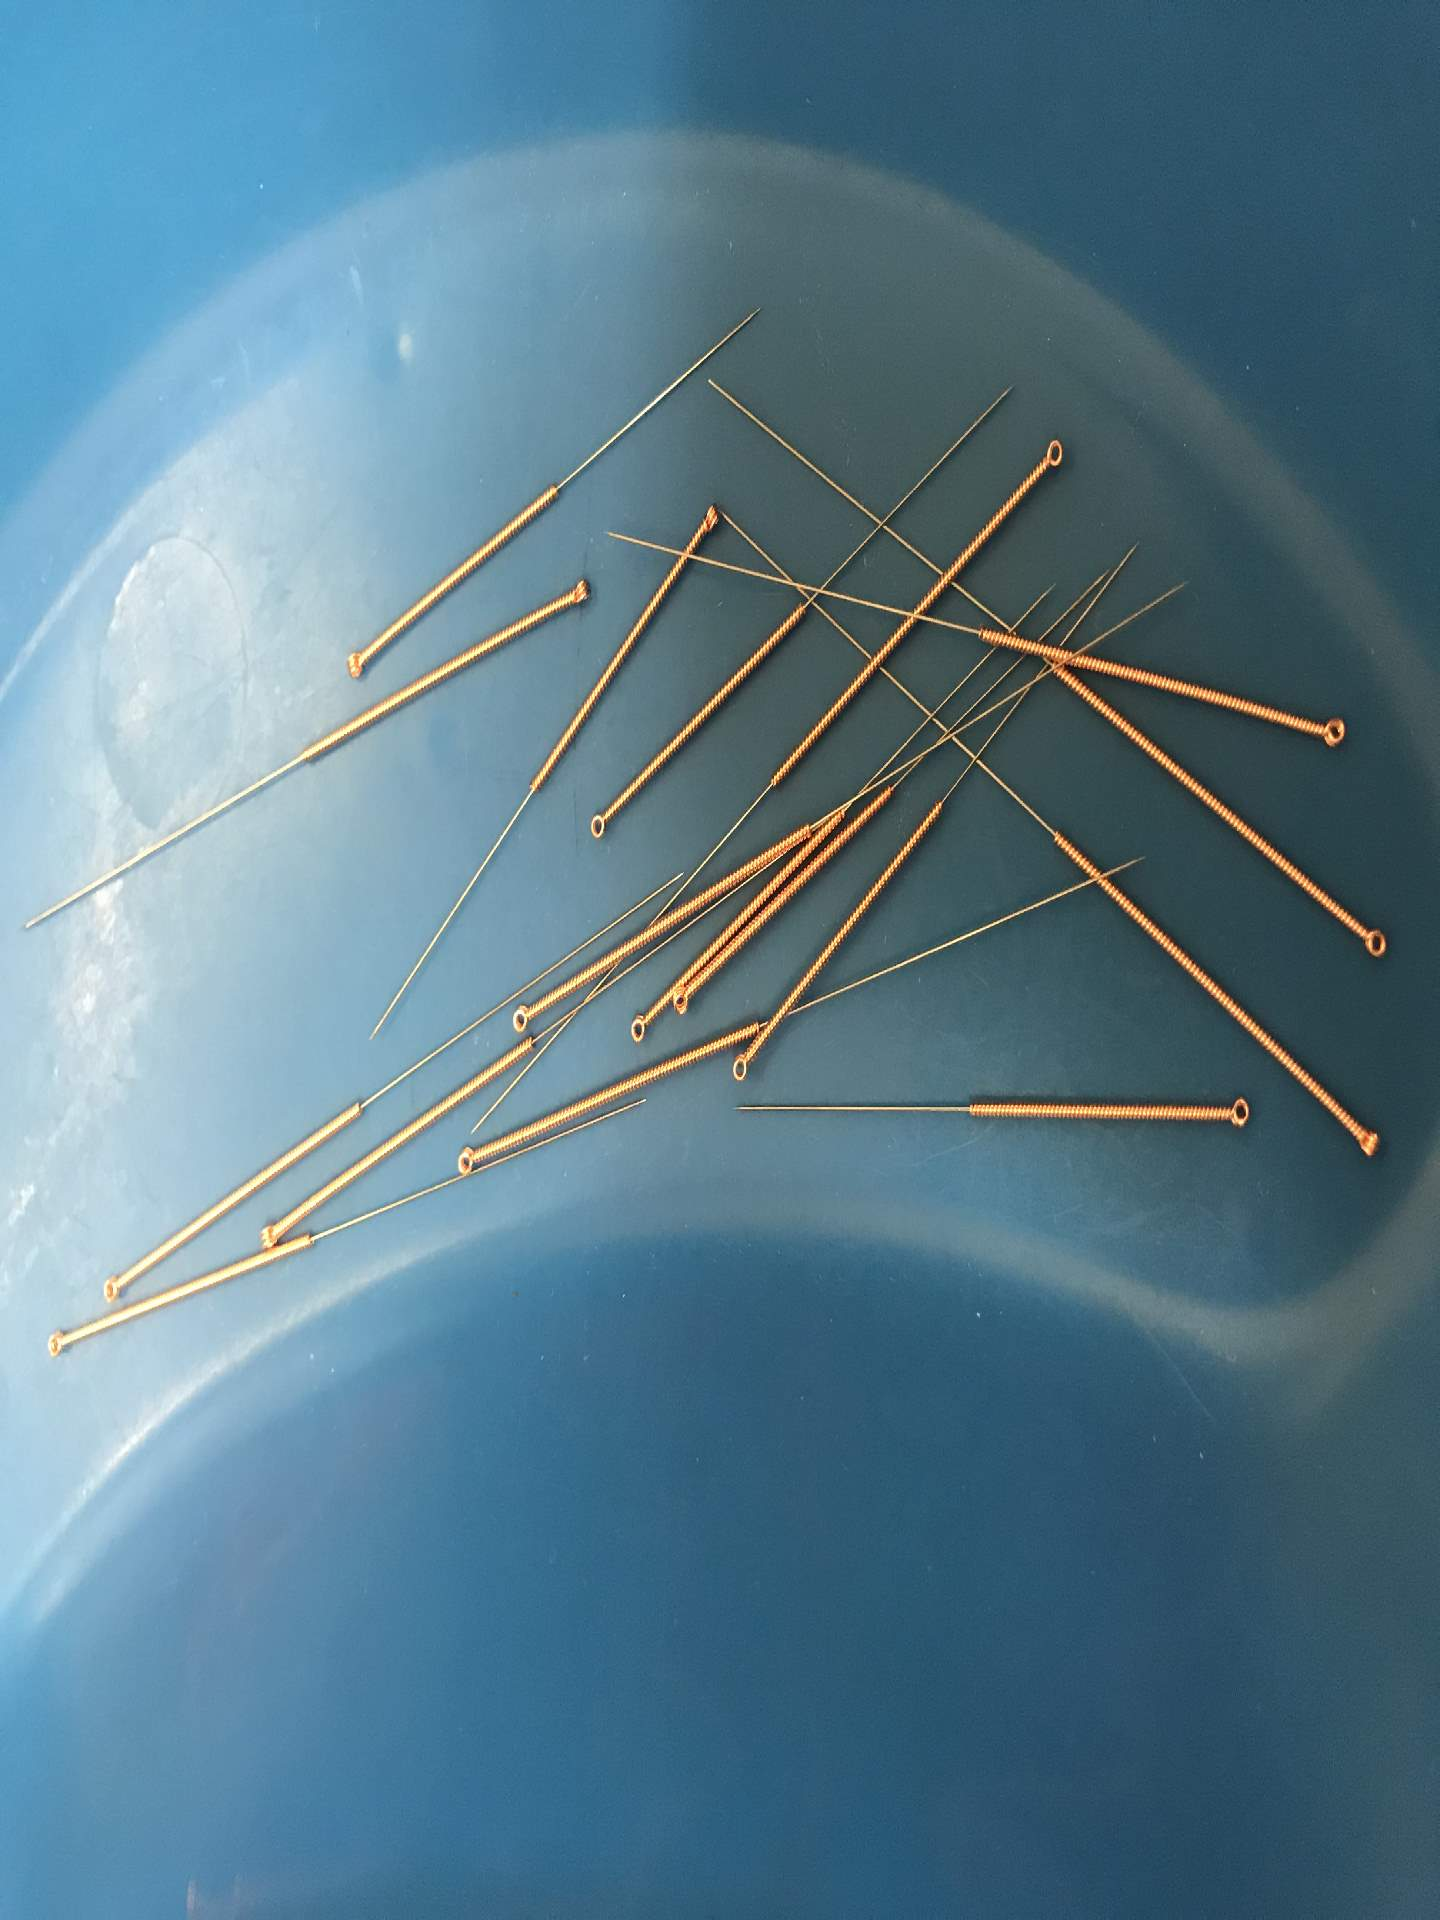needle: (1310, 708, 1354, 756), (1354, 918, 1395, 966), (1348, 1119, 1389, 1167), (1218, 1089, 1257, 1137), (1032, 429, 1069, 479), (504, 995, 540, 1042), (36, 1321, 73, 1367), (561, 571, 597, 614), (337, 643, 374, 685), (582, 803, 617, 847), (253, 1209, 289, 1250), (622, 1005, 656, 1048), (690, 499, 726, 537), (449, 1141, 484, 1181), (95, 1267, 129, 1306), (726, 1048, 758, 1087), (670, 984, 697, 1020)
